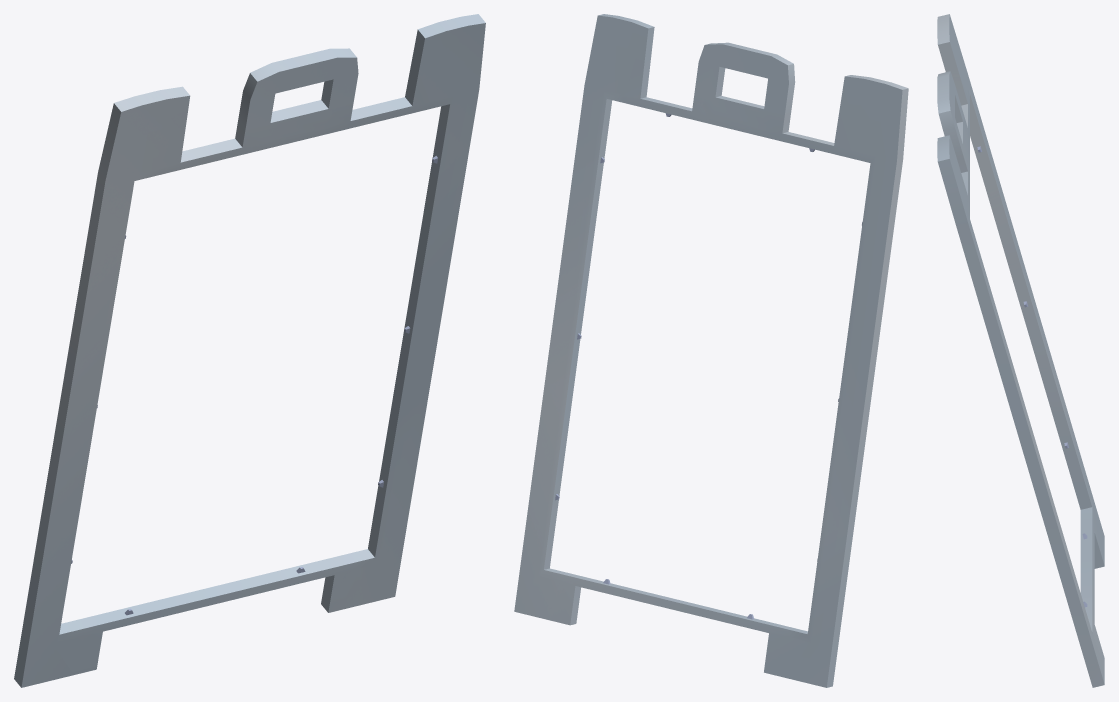
File: hologram-a-frame.fbx
3 views of the same model, side by side, from view 1: azimuth 30°, elevation 25°; view 2: azimuth 150°, elevation 25°; view 3: azimuth 270°, elevation 25° (orthographic). The views are drawn at different scales.
Parts seen in each view (by area): view 1: hologram_a_frame; view 2: hologram_a_frame; view 3: hologram_a_frame.
Boxes of the visible parts, x1,y1,x2,y2 form: hologram_a_frame: (14,14,485,687); hologram_a_frame: (514,14,908,687); hologram_a_frame: (937,14,1104,687).
Bounding box in the file's own units: 0.5696 × 0.9465 × 0.2717.
Materials: 1 (1 with a texture image).
